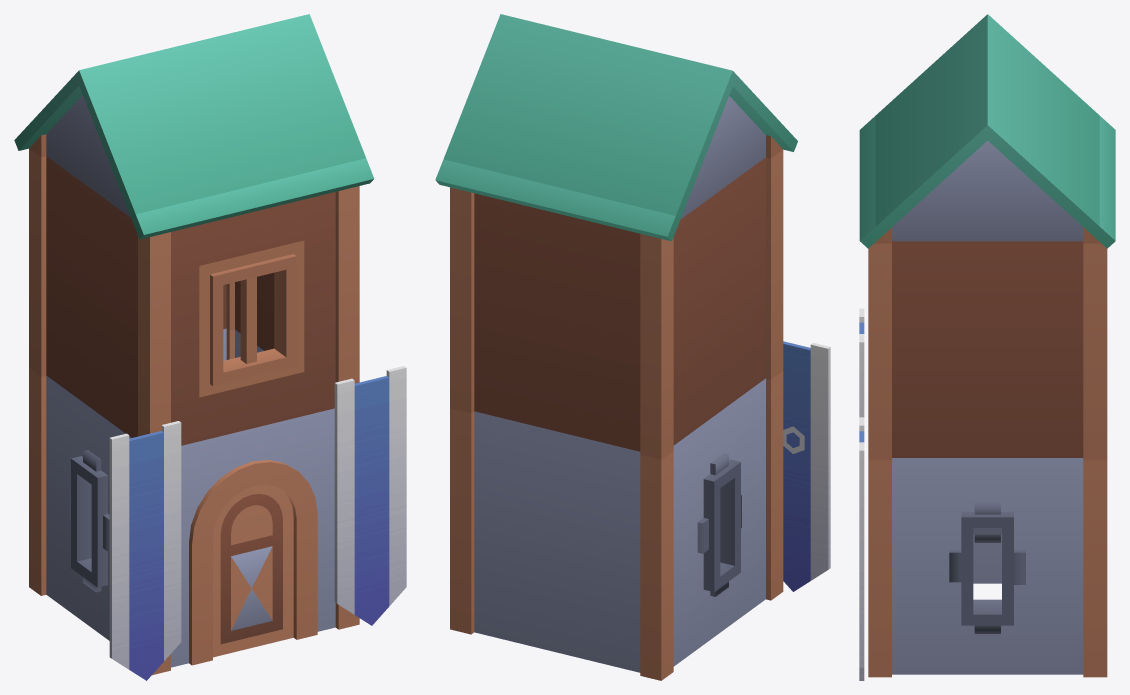
File: barracks_2.glb
3 views of the same model, side by side, from view 1: azimuth 30°, elevation 25°; view 2: azimuth 150°, elevation 25°; view 3: azimuth 270°, elevation 25° (orthographic). The views are drawn at different scales.
Parts seen in each view (by area): view 1: barracks_2; view 2: barracks_2; view 3: barracks_2.
Part boxes in pixels (box(x1,y1,x2,y2)): barracks_2: box(14, 14, 406, 680); barracks_2: box(435, 14, 830, 680); barracks_2: box(859, 14, 1115, 680).
Bounding box in the file's own units: 1.12 × 2.06 × 0.8583.
11 materials, 11 textured.
